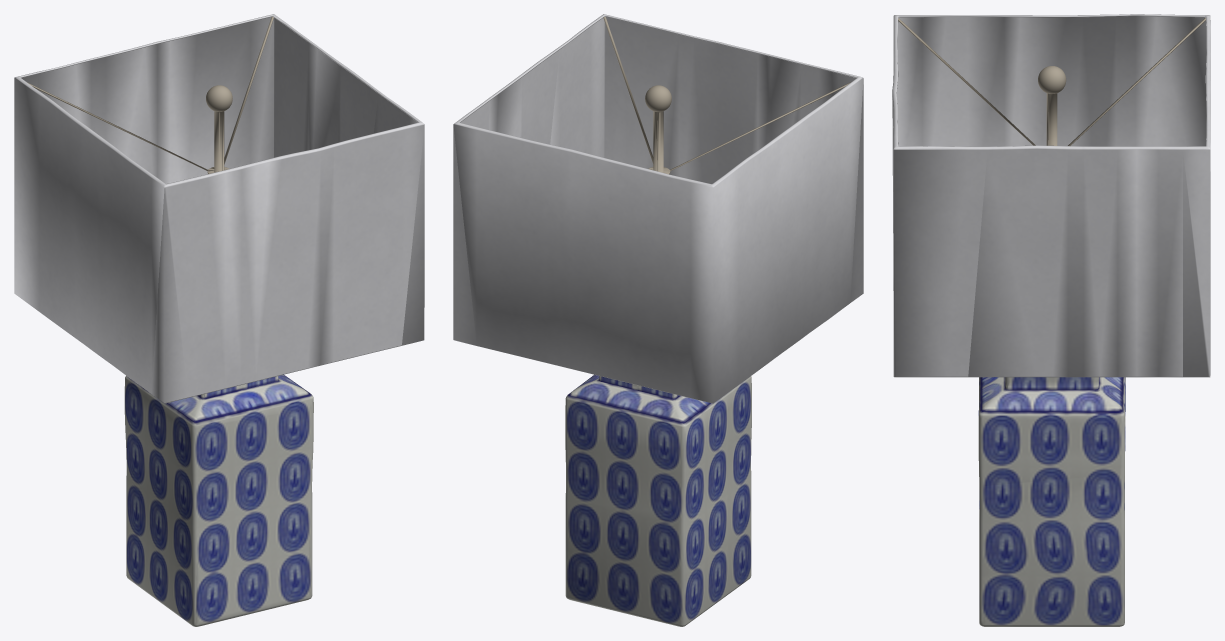
3 views of the same model, side by side, from view 1: azimuth 30°, elevation 25°; view 2: azimuth 150°, elevation 25°; view 3: azimuth 270°, elevation 25° (orthographic). The views are drawn at different scales.
Visible parts, largest first — view 1: RootNode; view 2: RootNode; view 3: RootNode.
Boxes of the visible parts, <box> form: RootNode: <box>14,14,424,626</box>; RootNode: <box>453,14,863,626</box>; RootNode: <box>892,14,1210,626</box>.
Size of the model in its own units: 0.3306 by 0.61 by 0.3317.
Materials: 1 (1 with a texture image).
